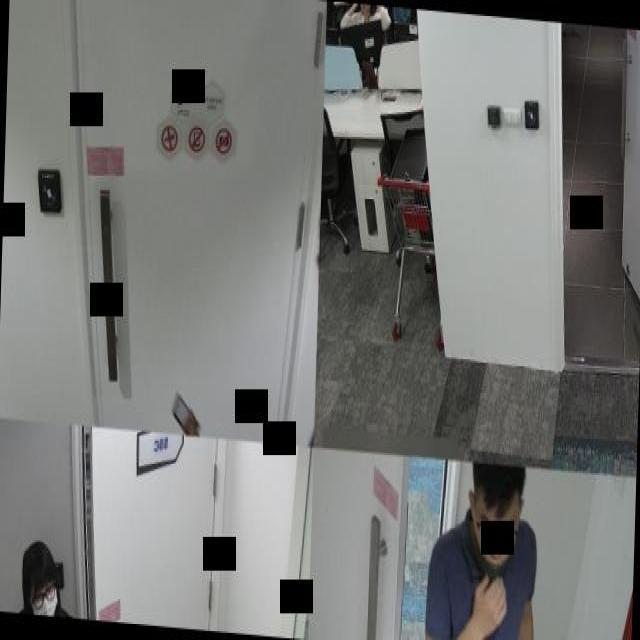hairnet: (473, 503, 519, 583)
